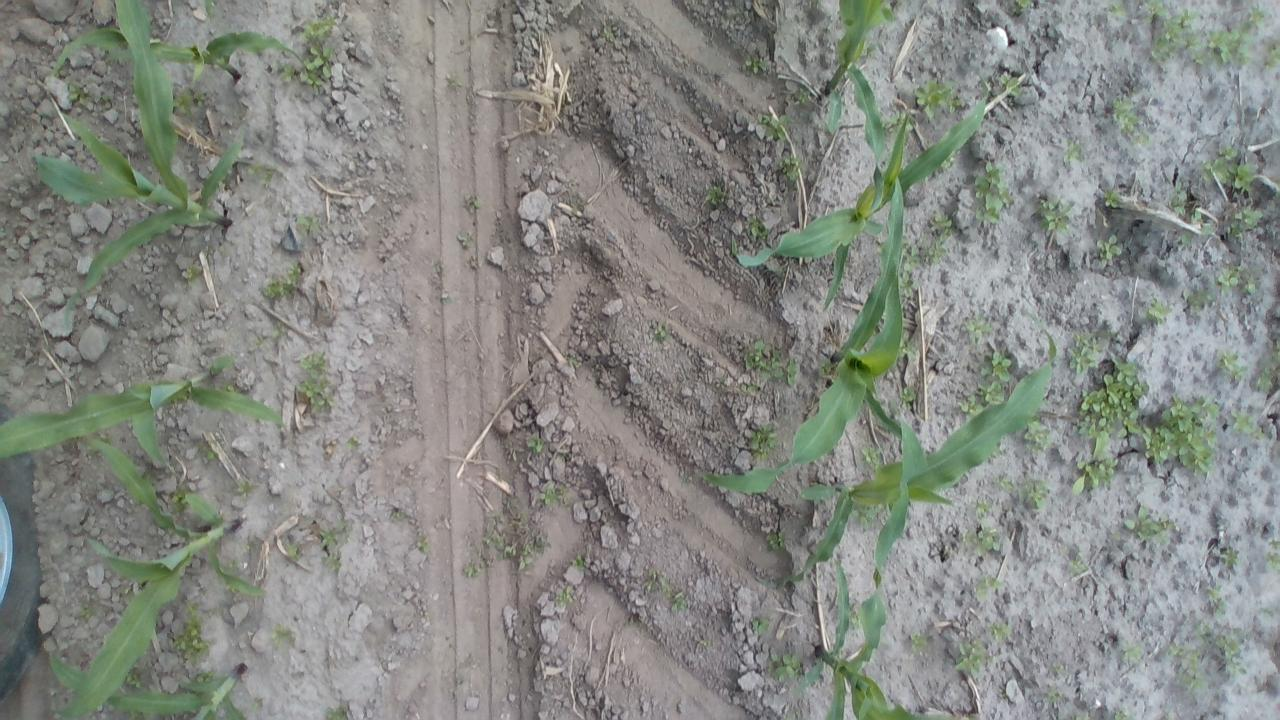Maize: (759, 303, 1063, 600), (701, 162, 928, 496), (39, 0, 243, 333), (728, 68, 998, 296), (53, 438, 270, 719), (0, 358, 287, 470), (792, 536, 956, 720), (47, 7, 310, 88), (819, 0, 905, 210), (39, 644, 254, 718)
Weeds: (1142, 392, 1224, 479), (1077, 354, 1152, 442), (479, 498, 546, 572), (1160, 635, 1207, 698), (964, 348, 1010, 408), (745, 338, 799, 386), (1152, 12, 1203, 62), (172, 600, 213, 662), (1112, 505, 1177, 544), (973, 163, 1012, 225), (300, 18, 334, 88), (1072, 445, 1118, 496), (914, 79, 964, 119), (1110, 96, 1151, 144), (1206, 27, 1248, 68), (1175, 206, 1213, 250), (1036, 195, 1074, 236), (260, 265, 302, 301), (1070, 332, 1106, 373), (1218, 632, 1248, 678), (1226, 206, 1264, 240), (1218, 160, 1256, 194), (747, 422, 779, 461), (1232, 407, 1266, 443), (755, 111, 791, 141), (906, 240, 946, 267), (954, 641, 984, 677), (1216, 348, 1246, 382), (768, 651, 803, 680), (300, 378, 332, 409), (1167, 183, 1194, 219), (641, 568, 677, 594), (968, 525, 999, 554), (1253, 356, 1275, 395), (962, 314, 992, 342), (177, 262, 203, 294), (1022, 480, 1048, 512), (1098, 232, 1124, 263), (1182, 287, 1214, 312), (974, 574, 1002, 602), (173, 88, 203, 113), (298, 352, 330, 375), (1190, 616, 1216, 644), (271, 620, 296, 649), (196, 434, 220, 464), (1102, 182, 1126, 212), (898, 329, 921, 360), (665, 590, 693, 614), (1216, 266, 1241, 292), (1060, 138, 1085, 164), (316, 524, 341, 550), (1026, 424, 1050, 450), (1245, 4, 1269, 30), (540, 484, 564, 510), (92, 88, 115, 114), (598, 20, 620, 47), (899, 384, 920, 412), (750, 612, 774, 636), (930, 213, 954, 237), (1106, 705, 1144, 720), (250, 162, 278, 182), (1146, 299, 1170, 322), (859, 444, 883, 467), (1041, 684, 1063, 709), (234, 479, 260, 500), (590, 361, 608, 391), (1186, 36, 1204, 66), (385, 502, 409, 524), (1218, 543, 1240, 567), (746, 216, 770, 238), (846, 601, 860, 638), (322, 702, 352, 719), (200, 242, 228, 260), (706, 182, 726, 207), (899, 269, 915, 300), (779, 156, 798, 182), (883, 108, 902, 134), (1142, 0, 1168, 19), (1122, 642, 1144, 664), (744, 52, 766, 74), (1214, 144, 1238, 164), (1000, 75, 1021, 97), (854, 505, 876, 526), (270, 315, 290, 338), (650, 320, 670, 343), (75, 600, 94, 624), (792, 84, 811, 108), (171, 489, 189, 514), (1262, 38, 1276, 70), (444, 70, 464, 92), (766, 530, 786, 552), (972, 498, 994, 518), (277, 60, 296, 83), (220, 378, 247, 394), (1207, 586, 1224, 611), (67, 81, 87, 102), (462, 193, 482, 214), (988, 620, 1009, 640), (815, 356, 834, 378), (126, 673, 146, 693), (734, 380, 759, 396), (555, 587, 575, 607), (908, 632, 928, 652), (342, 431, 363, 450), (299, 215, 320, 234), (566, 346, 584, 368), (528, 436, 546, 458), (191, 668, 215, 684), (285, 539, 301, 563), (572, 552, 591, 572), (455, 231, 476, 249), (461, 559, 480, 578), (252, 330, 270, 350), (1264, 542, 1276, 572), (692, 635, 713, 652), (326, 552, 342, 574), (1107, 0, 1126, 18), (1242, 276, 1260, 295), (1067, 708, 1095, 720), (1009, 0, 1033, 14), (994, 475, 1016, 490), (414, 532, 430, 552), (1070, 557, 1088, 574), (679, 470, 694, 488), (552, 448, 568, 464), (439, 289, 454, 306), (1050, 661, 1066, 676), (1058, 540, 1070, 558), (434, 258, 444, 278), (466, 253, 479, 268)
